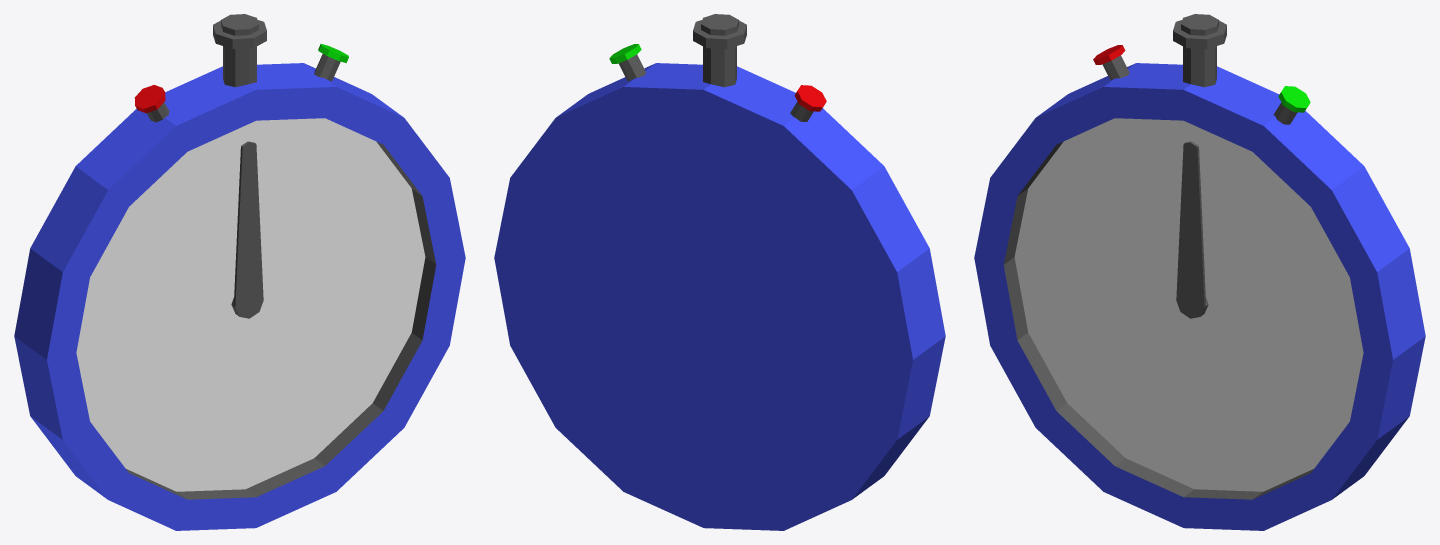
The model's file is stopwatch.fbx.
The picture shows the model from 3 angles, left to right: view 1: azimuth 30°, elevation 25°; view 2: azimuth 150°, elevation 25°; view 3: azimuth 330°, elevation 25°; orthographic projection.
Visible parts, largest first — view 1: Cylinder, Cylinder.004, Cylinder.001, Cylinder.003, Cylinder.002; view 2: Cylinder, Cylinder.001, Cylinder.003, Cylinder.002; view 3: Cylinder, Cylinder.004, Cylinder.001, Cylinder.002, Cylinder.003.
Part boxes in pixels (box(x1,y1,x2,y2)): Cylinder: box(14, 63, 465, 530); Cylinder.004: box(233, 141, 263, 318); Cylinder.001: box(213, 14, 266, 87); Cylinder.003: box(134, 85, 169, 122); Cylinder.002: box(314, 43, 348, 81); Cylinder: box(494, 63, 945, 530); Cylinder.001: box(693, 14, 746, 87); Cylinder.003: box(790, 85, 826, 121); Cylinder.002: box(609, 44, 646, 81); Cylinder: box(974, 63, 1425, 530); Cylinder.004: box(1176, 141, 1206, 318); Cylinder.001: box(1173, 14, 1226, 87); Cylinder.002: box(1273, 86, 1310, 124); Cylinder.003: box(1093, 45, 1129, 79).
Bounding box in the file's own units: 200 × 225 × 27.02.
